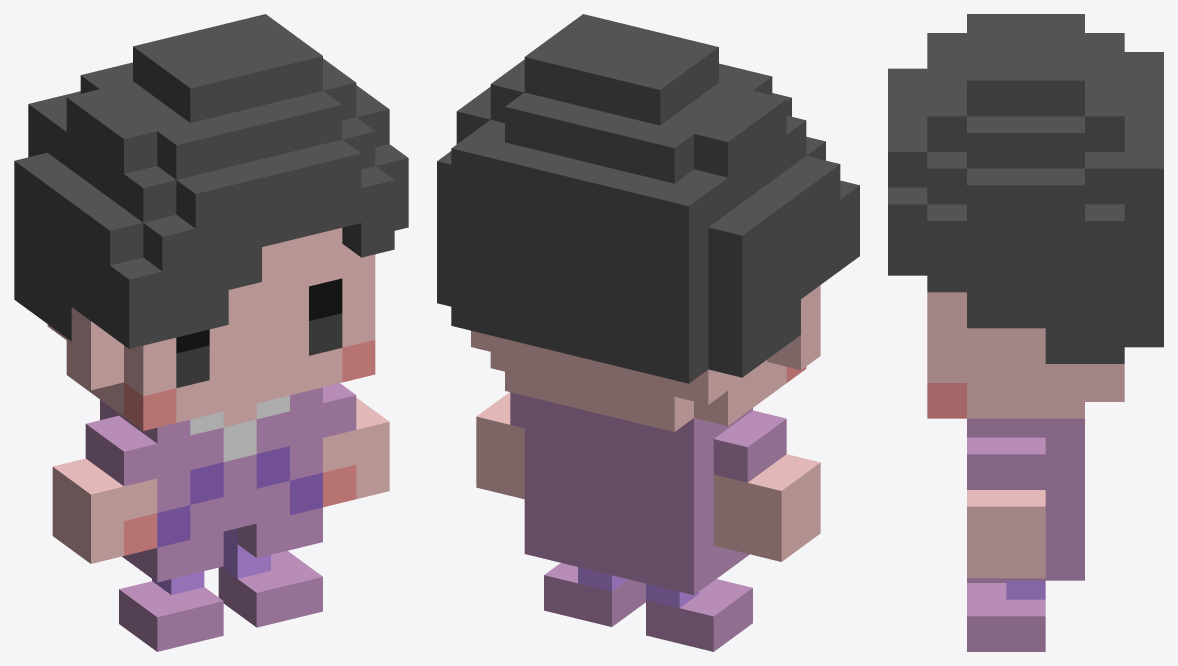
Rendered from character-4.glb.
The picture shows the model from 3 angles, left to right: view 1: azimuth 30°, elevation 25°; view 2: azimuth 150°, elevation 25°; view 3: azimuth 270°, elevation 25°; orthographic projection. The views are drawn at different scales.
Visible parts, largest first — view 1: Object_28; view 2: Object_28; view 3: Object_28.
Boxes of the visible parts, x1=… form: Object_28: x1=14, y1=14, x2=408, y2=651; Object_28: x1=437, y1=14, x2=859, y2=651; Object_28: x1=888, y1=14, x2=1163, y2=651.
Bounding box in the file's own units: 0.9 × 1.6 × 0.7.
Materials: 1 (1 with a texture image).
